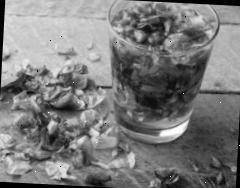glass: (99, 0, 220, 149)
